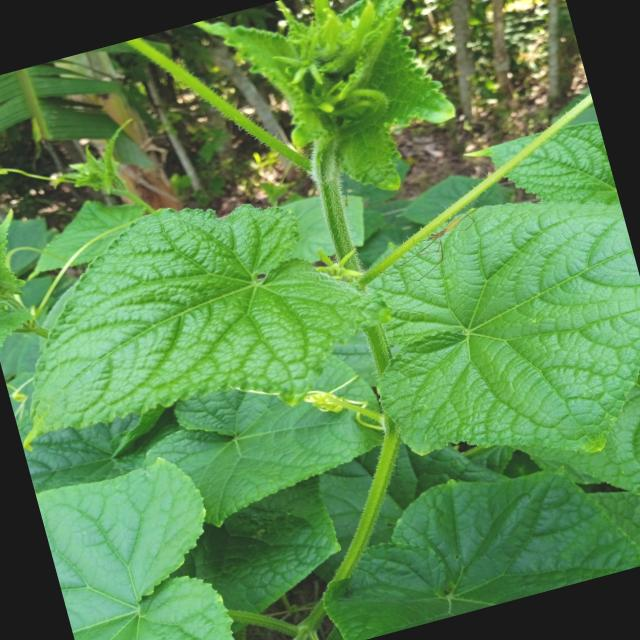cucumber_healthy: (0, 153, 411, 485), (329, 160, 640, 509), (298, 416, 640, 640), (33, 442, 253, 640), (445, 86, 620, 242)
